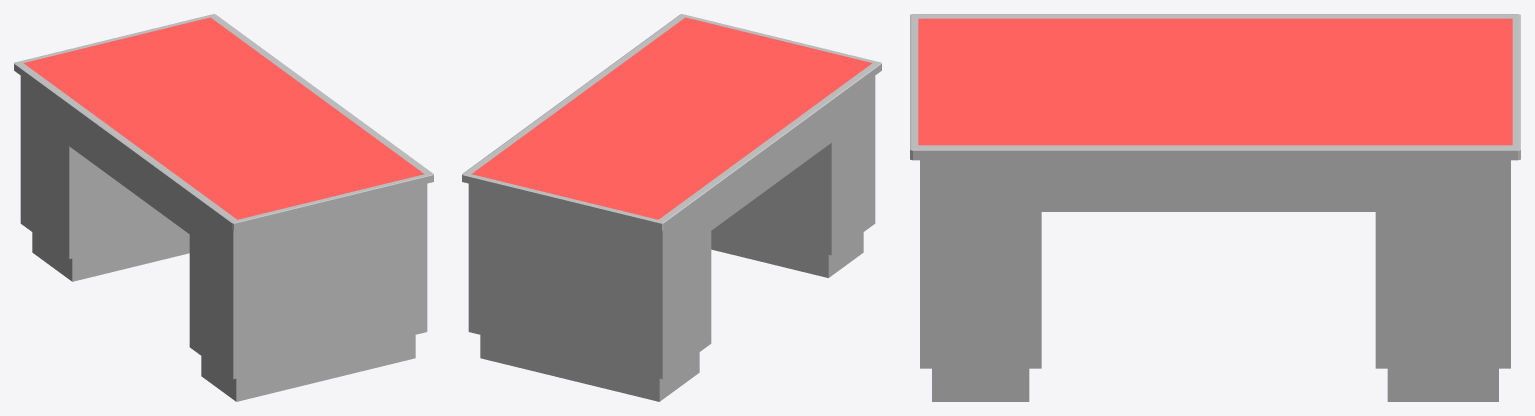
Rendered from SmallDesk.fbx.
3 views of the same model, side by side, from view 1: azimuth 30°, elevation 25°; view 2: azimuth 150°, elevation 25°; view 3: azimuth 270°, elevation 25° (orthographic). The views are drawn at different scales.
Parts seen in each view (by area): view 1: SmallDesk; view 2: SmallDesk; view 3: SmallDesk.
Part boxes in pixels (bbox=[...]): SmallDesk: bbox=[14, 14, 433, 401]; SmallDesk: bbox=[462, 14, 881, 401]; SmallDesk: bbox=[910, 14, 1520, 401].
Bounding box in the file's own units: 208 × 184 × 393.
